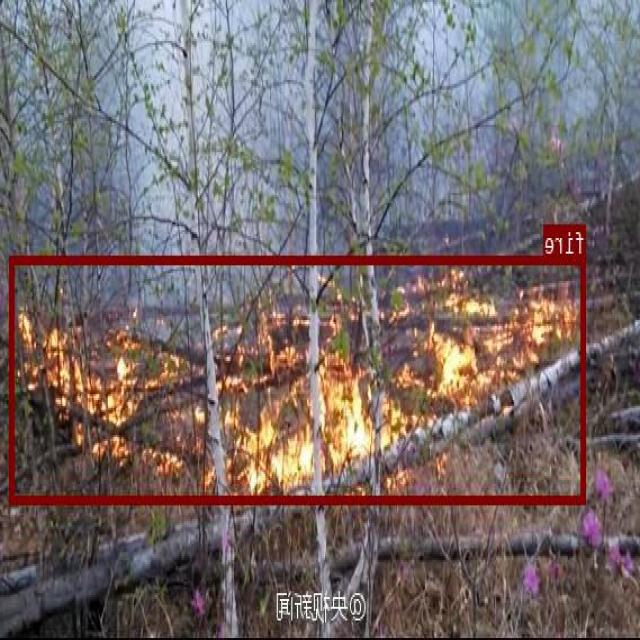fire: (11, 255, 586, 502)
